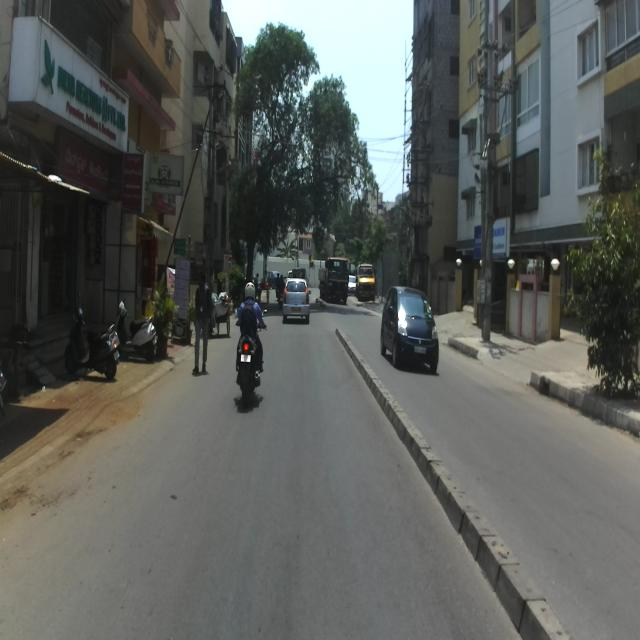car ahead at: (384, 283, 443, 378), (280, 275, 312, 327)
motorcycle ahead at: (64, 303, 122, 382), (230, 329, 266, 407)
person ahead at: (192, 266, 216, 382)
